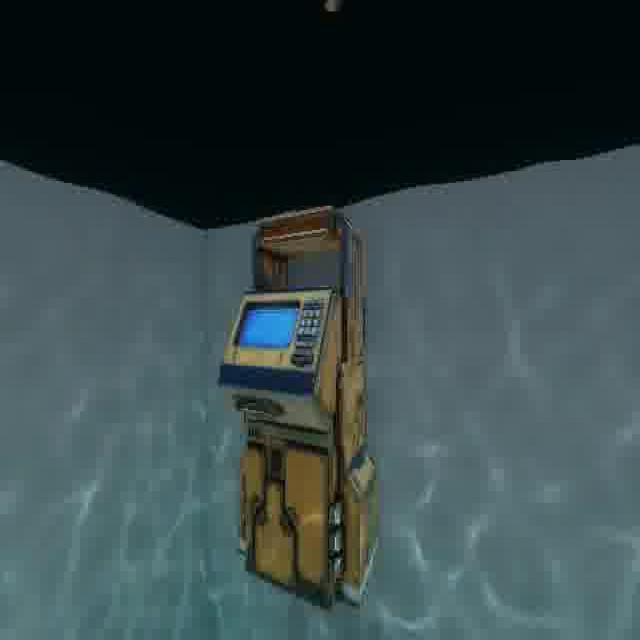Control Panel: (210, 202, 397, 616)
